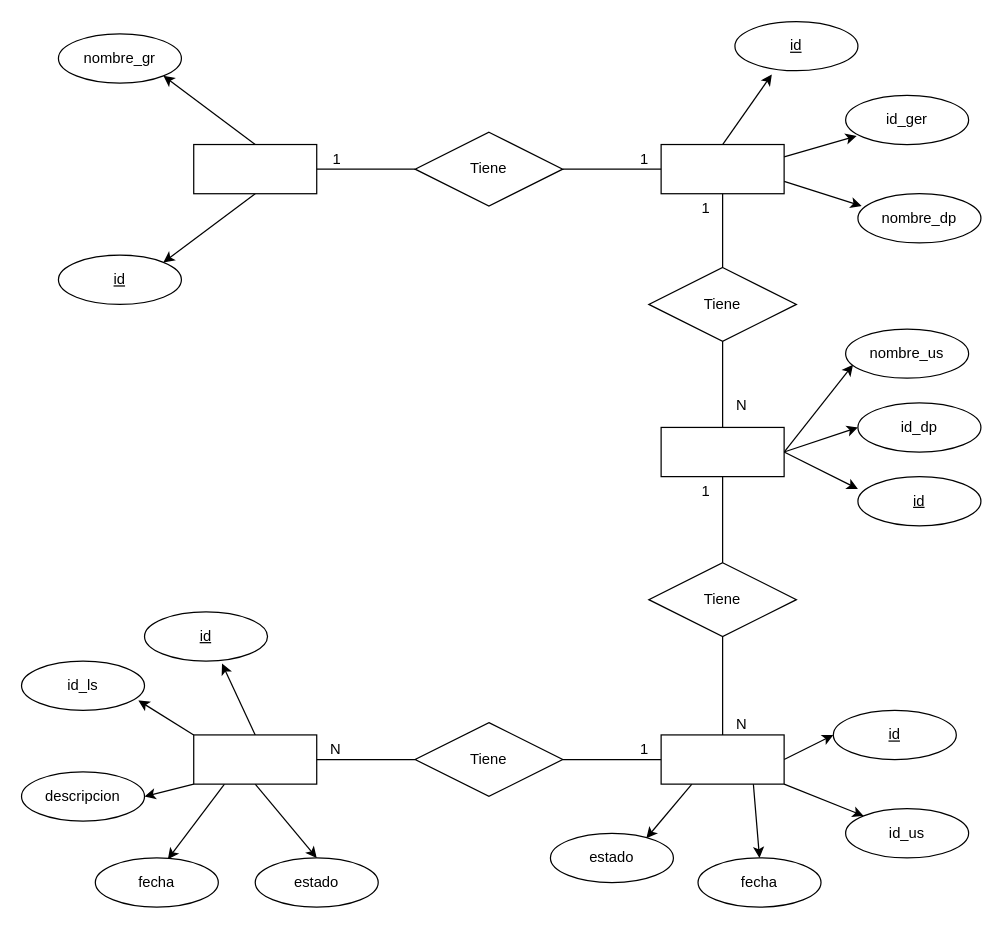
The diagram is 1002 pixels wide and 929 high, and some of its shapes have lost their labels. The centre of each missing label's shape, as x and y in pixels:
"Departamento" goes at (722,168).
"Gerencia" goes at (254,168).
"Lista" goes at (722,759).
"Tarea" goes at (254,759).
"Usuario" goes at (722,451).
